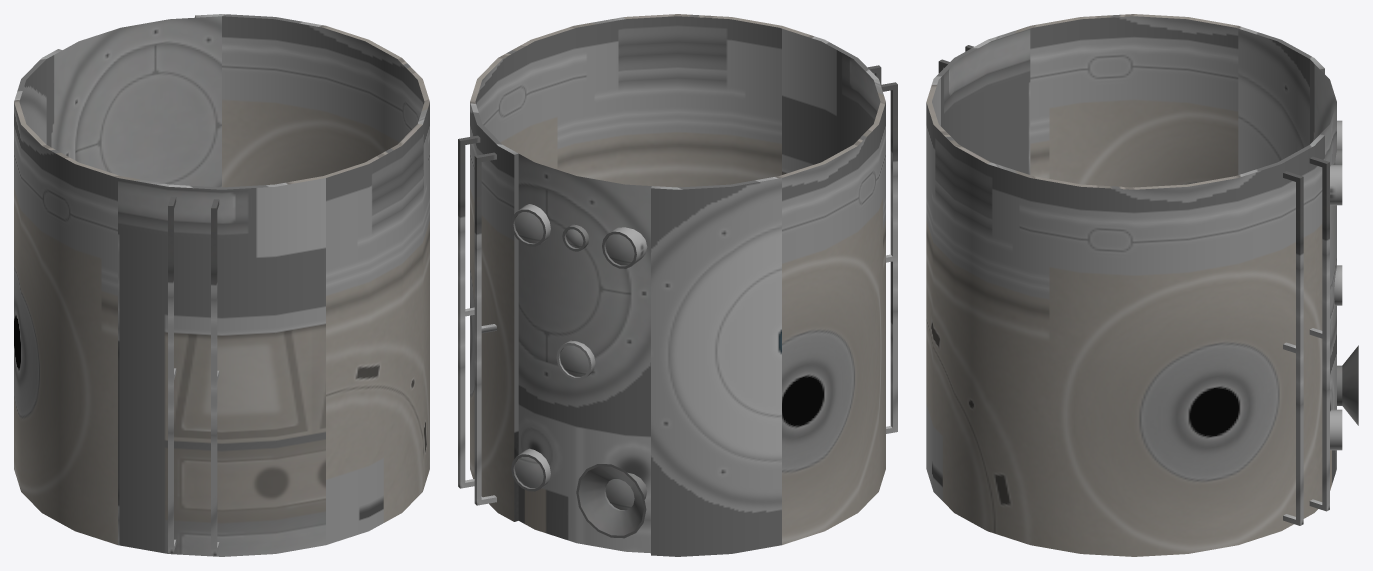
The model's file is eridani_crew_s1p5_1_zvezda.obj.
3 renders of one model, left to right at view 1: azimuth 30°, elevation 25°; view 2: azimuth 150°, elevation 25°; view 3: azimuth 270°, elevation 25°, orthographic.
Visible parts, largest first — view 1: mesh1; view 2: mesh1, windows1; view 3: mesh1.
Part boxes in pixels (x1,y1,x2,y2): mesh1: (14, 14, 429, 556); mesh1: (458, 14, 897, 556); windows1: (514, 212, 634, 510); mesh1: (926, 14, 1358, 556).
Size of the model in its own units: 1.92 by 1.88 by 2.
Materials: 2 (2 with a texture image).
